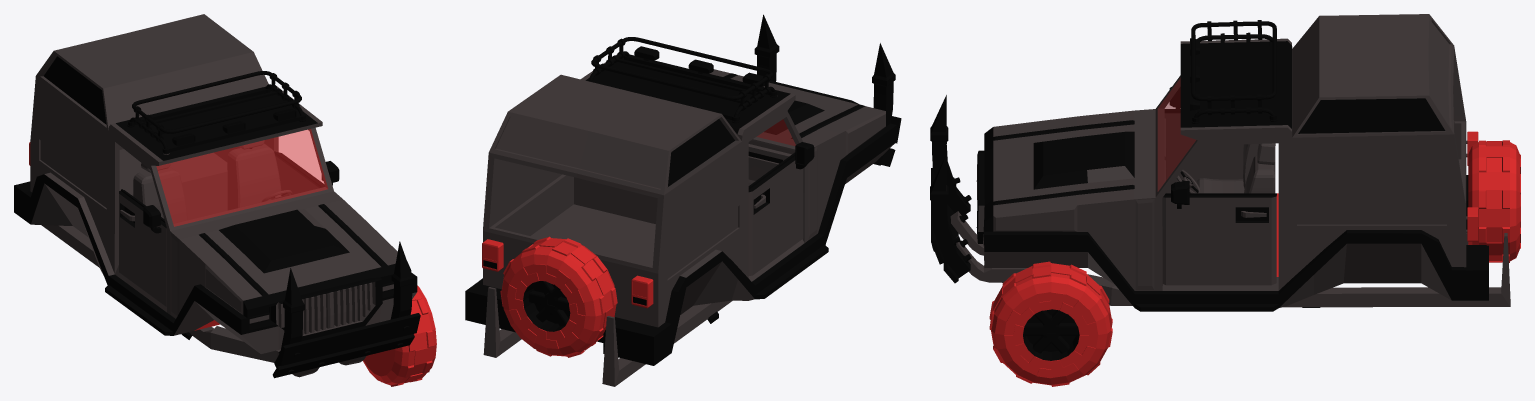
Rendered from Jeep.fbx.
The picture shows the model from 3 angles, left to right: view 1: azimuth 30°, elevation 25°; view 2: azimuth 150°, elevation 25°; view 3: azimuth 270°, elevation 25°; orthographic projection. The views are drawn at different scales.
Parts seen in each view (by area): view 1: Cylinder.018_Cylinder.007, Cylinder.018_Cylinder.002; view 2: Cylinder.018_Cylinder.007; view 3: Cylinder.018_Cylinder.007, Cylinder.018_Cylinder.002.
Part boxes in pixels (bbox=[...]): Cylinder.018_Cylinder.007: bbox=[14, 14, 420, 378]; Cylinder.018_Cylinder.002: bbox=[363, 285, 436, 386]; Cylinder.018_Cylinder.007: bbox=[465, 14, 901, 386]; Cylinder.018_Cylinder.007: bbox=[930, 14, 1520, 311]; Cylinder.018_Cylinder.002: bbox=[989, 261, 1112, 386].
Bounding box in the file's own units: 971 × 1083 × 2118.
